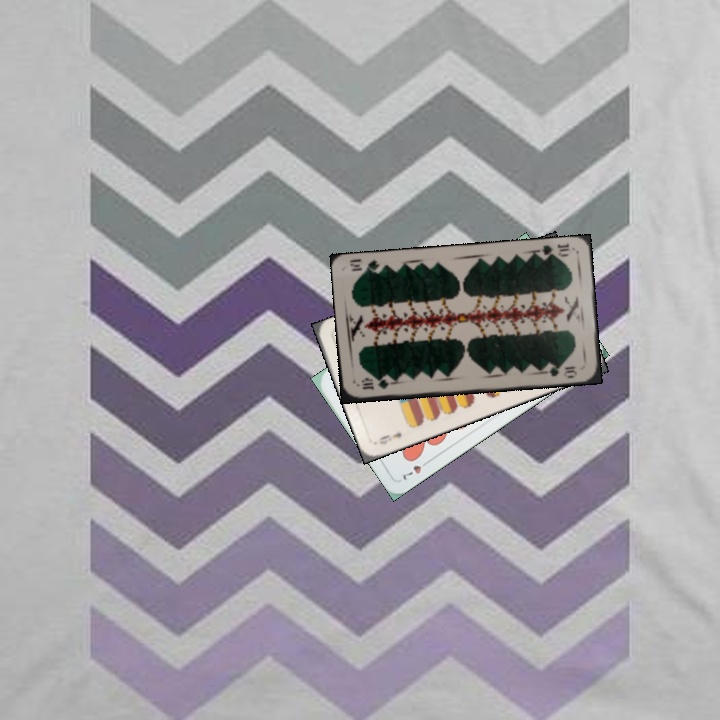E9: (375, 428, 404, 447)
G10: (534, 239, 572, 261), (358, 374, 396, 393)
H7: (398, 455, 433, 483)
